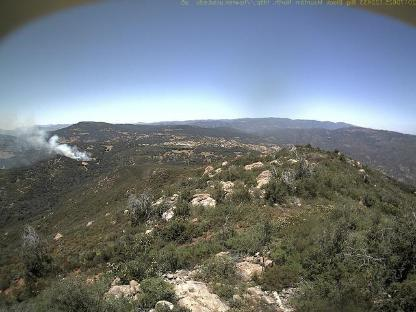smoke: (2, 106, 96, 166)
